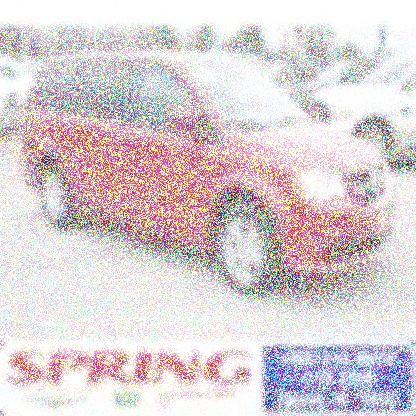Vehicle: (17, 42, 409, 313)
